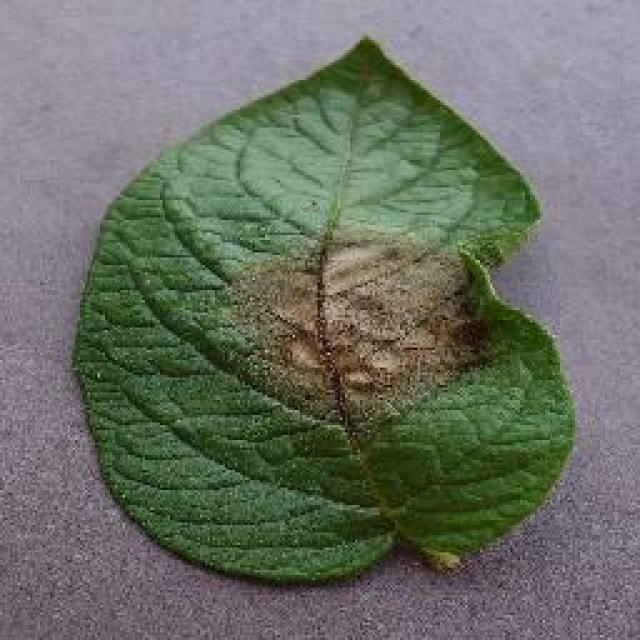late_blight: (68, 32, 580, 588)
